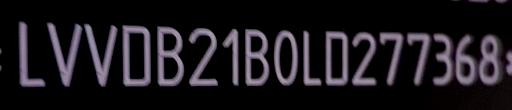letter: (42, 16, 84, 90), (83, 20, 123, 92), (11, 18, 49, 90), (152, 18, 188, 94), (186, 22, 224, 94), (118, 20, 154, 92), (268, 23, 302, 95), (240, 24, 274, 92), (320, 26, 354, 90), (403, 26, 435, 88), (348, 27, 380, 89), (474, 29, 508, 85), (296, 28, 326, 90), (376, 27, 404, 91), (218, 24, 244, 92), (452, 28, 478, 90), (430, 29, 454, 88)
